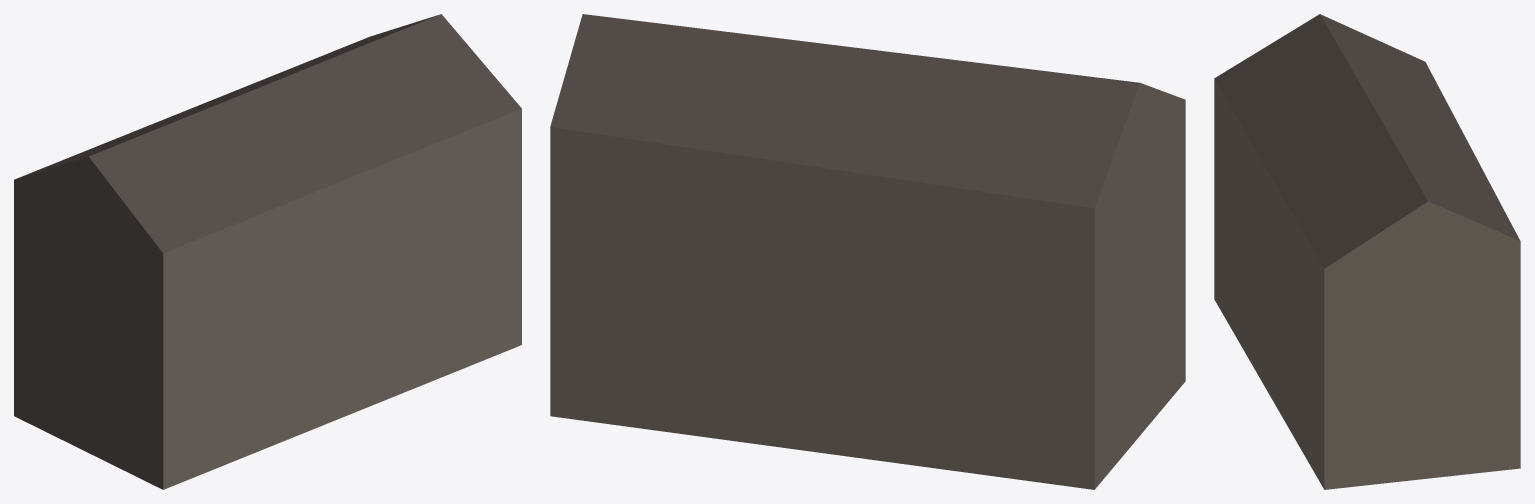
The picture shows the model from 3 angles, left to right: view 1: azimuth 30°, elevation 25°; view 2: azimuth 150°, elevation 25°; view 3: azimuth 270°, elevation 25°; orthographic projection. The views are drawn at different scales.
Parts seen in each view (by area): view 1: HP-w505643564; view 2: HP-w505643564; view 3: HP-w505643564.
Boxes of the visible parts, x1=… form: HP-w505643564: x1=14, y1=14, x2=521, y2=489; HP-w505643564: x1=550, y1=14, x2=1185, y2=489; HP-w505643564: x1=1214, y1=14, x2=1520, y2=489.
Size of the model in its own units: 12.04 by 7.52 by 7.53.
